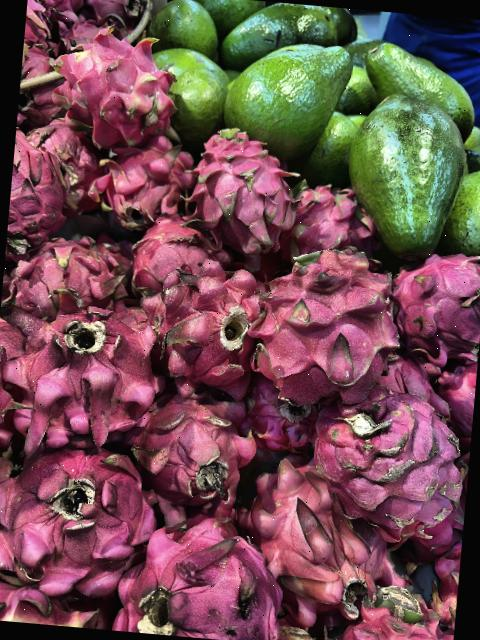buah-naga-matang: (0, 438, 164, 596), (298, 384, 474, 530), (235, 462, 394, 616), (0, 291, 160, 444), (253, 244, 408, 398), (110, 520, 286, 640), (137, 256, 268, 397), (174, 126, 304, 262), (46, 25, 174, 143), (131, 392, 258, 509), (381, 248, 480, 382), (5, 234, 136, 318), (87, 136, 194, 224), (6, 130, 82, 253), (123, 207, 221, 295), (284, 187, 374, 260)
